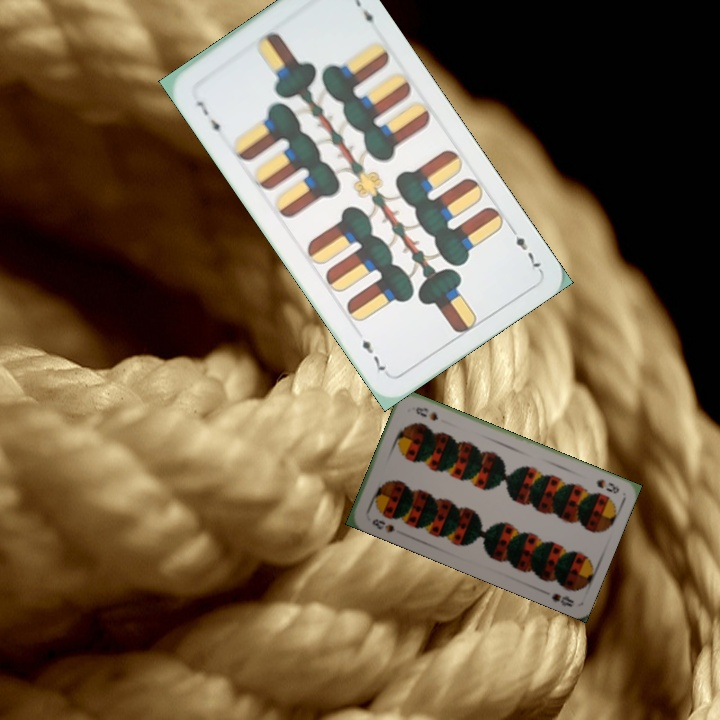E7: (505, 221, 543, 274), (192, 96, 224, 140)
S8: (592, 475, 622, 496), (368, 515, 397, 535)
